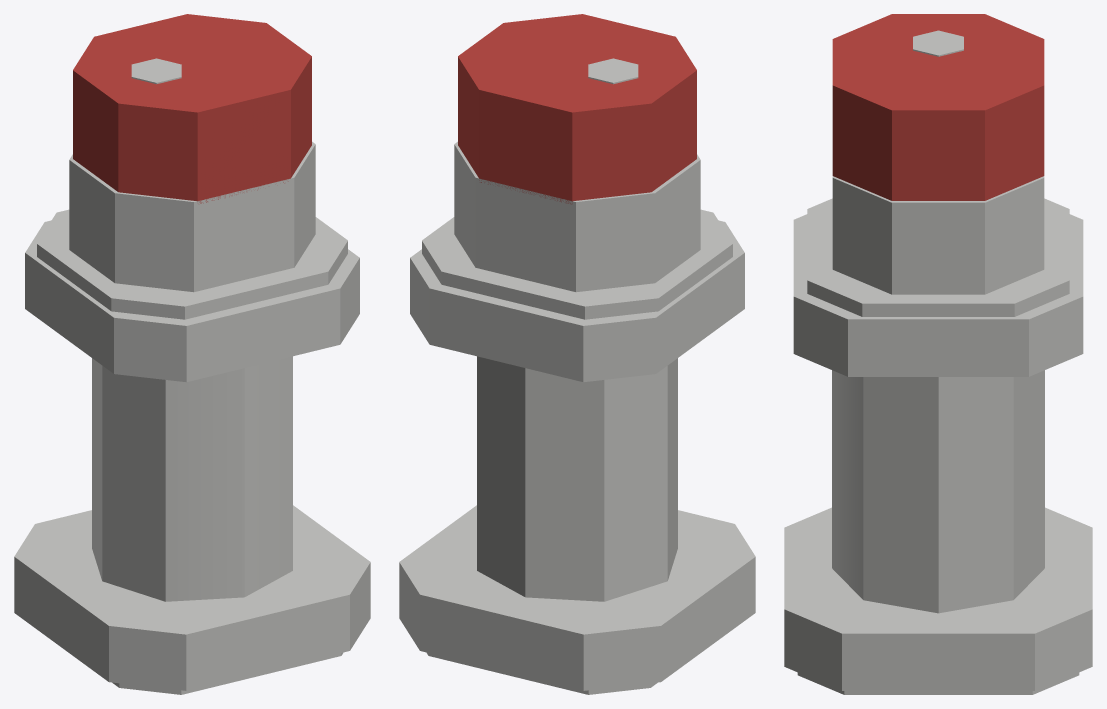
Rendered from hot_cam_1_lod2.glb.
3 views of the same model, side by side, from view 1: azimuth 30°, elevation 25°; view 2: azimuth 150°, elevation 25°; view 3: azimuth 270°, elevation 25° (orthographic). The views are drawn at different scales.
Parts seen in each view (by area): view 1: hot_cam_1_lod2; view 2: hot_cam_1_lod2; view 3: hot_cam_1_lod2.
Boxes of the visible parts, x1,y1,x2,y2 form: hot_cam_1_lod2: [14, 14, 370, 694]; hot_cam_1_lod2: [399, 14, 755, 694]; hot_cam_1_lod2: [784, 14, 1092, 694].
Bounding box in the file's own units: 0.146 × 0.3 × 0.146.
